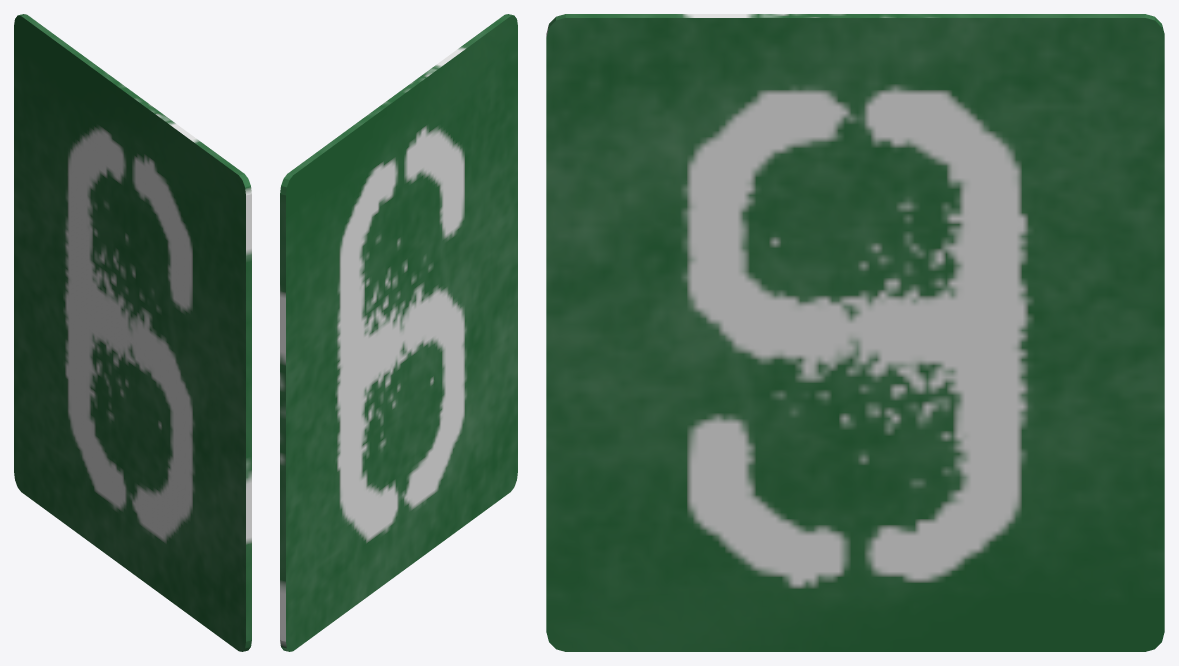
File: DecalNumberNine.fbx
The picture shows the model from 3 angles, left to right: view 1: azimuth 30°, elevation 25°; view 2: azimuth 150°, elevation 25°; view 3: azimuth 270°, elevation 25°; orthographic projection. The views are drawn at different scales.
Visible parts, largest first — view 1: DecalNumberNine; view 2: DecalNumberNine; view 3: DecalNumberNine.
Boxes of the visible parts, left/top/right/bottom form: DecalNumberNine: left=14, top=14, right=251, bottom=651; DecalNumberNine: left=280, top=14, right=517, bottom=651; DecalNumberNine: left=546, top=14, right=1164, bottom=651.
Size of the model in its own units: 5.01e-05 by 0.00385 by 0.0034.
